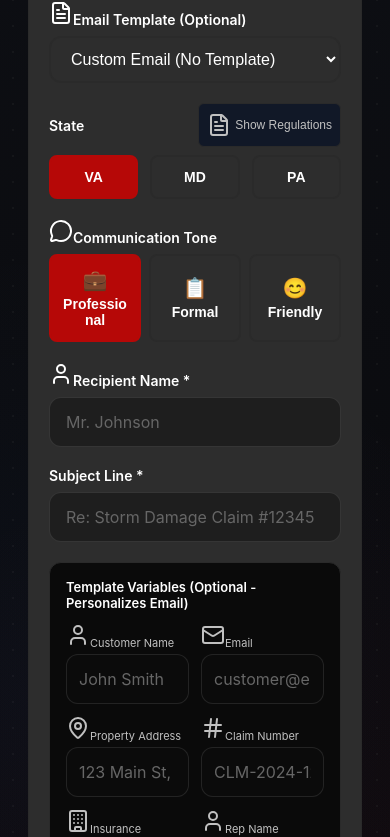
Scenario: keeps generated content if local history storage is full
This screenshot has width=390, height=837.
(page scrolled)
Type "Fixture Homeowner" into the field named "Recipient name".
click(195, 422); type("Fixture Homeowner")  # box [49, 397, 341, 447]
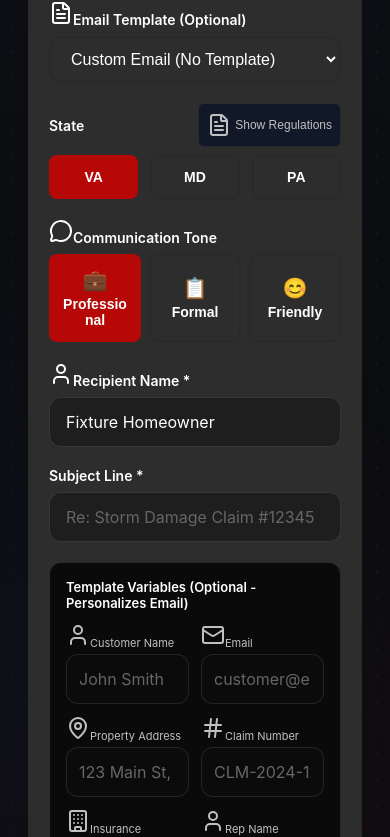
Type "Inspection follow-up" into the field named "Subject line".
click(195, 517); type("Inspection follow-up")  # box [49, 492, 341, 542]
(page scrolled)
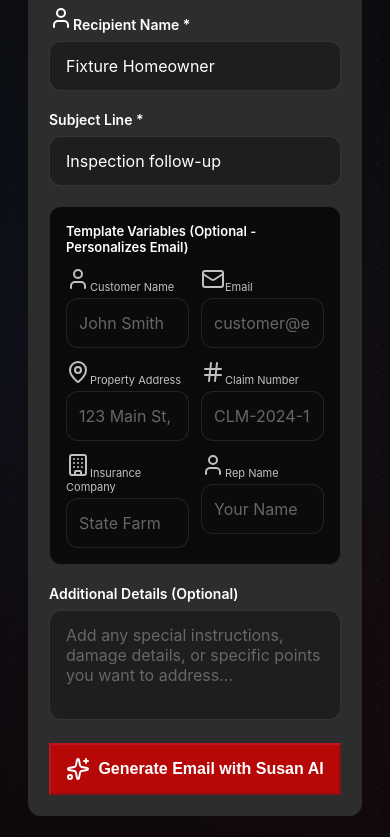
Click the button "Generate Email with Susan AI".
click(195, 769)  # box [49, 743, 341, 795]
(page scrolled)
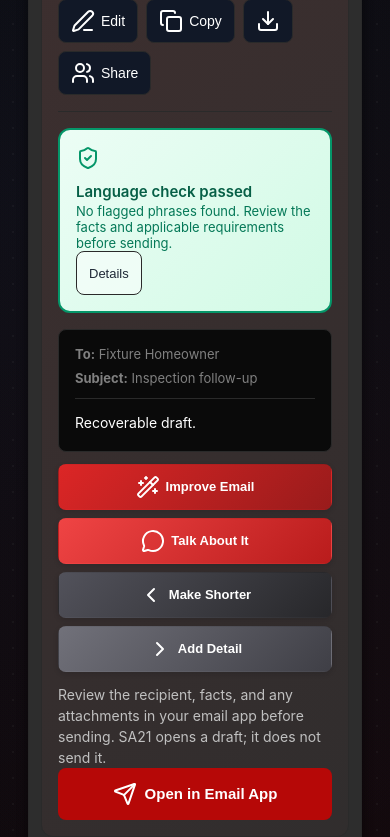
Check: the text "Recoverable draft." is shown, box [75, 414, 196, 431]
